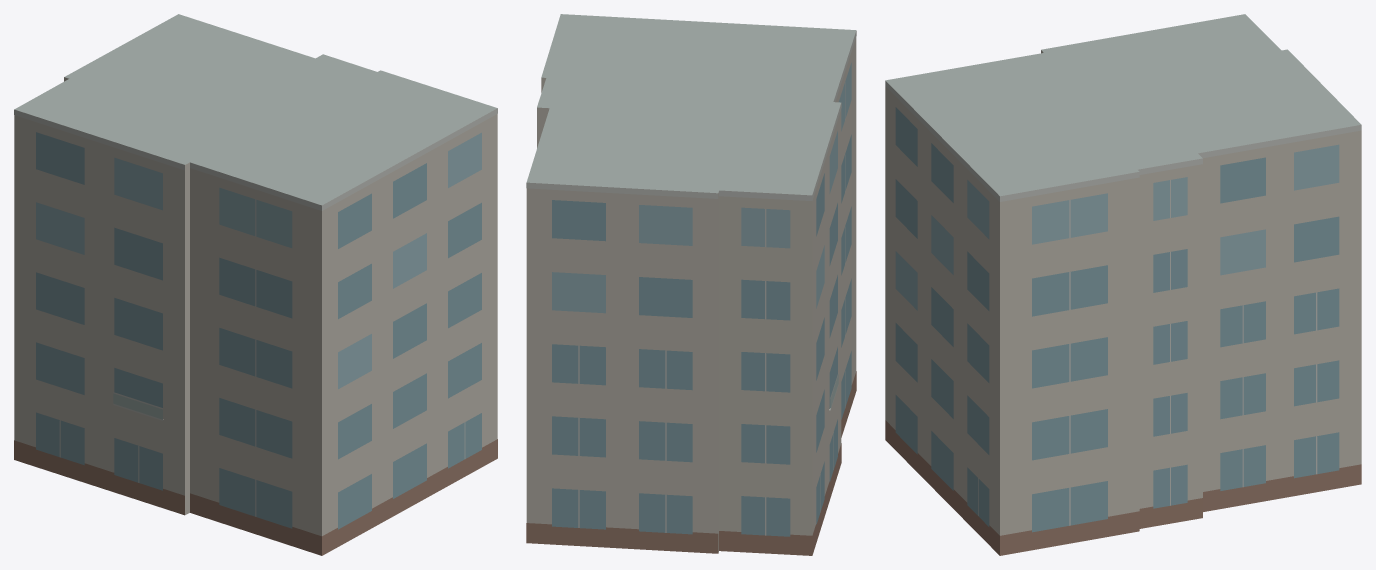
File: survey-upis-32928791.glb
The picture shows the model from 3 angles, left to right: view 1: azimuth 30°, elevation 25°; view 2: azimuth 150°, elevation 25°; view 3: azimuth 270°, elevation 25°; orthographic projection. The views are drawn at different scales.
Parts seen in each view (by area): view 1: survey-upis-32928791.tmp; view 2: survey-upis-32928791.tmp; view 3: survey-upis-32928791.tmp.
Part boxes in pixels (x1,y1,x2,y2): survey-upis-32928791.tmp: (14,14,497,555); survey-upis-32928791.tmp: (526,14,856,555); survey-upis-32928791.tmp: (885,14,1361,555).
Bounding box in the file's own units: 16.59 × 15.25 × 18.32.
